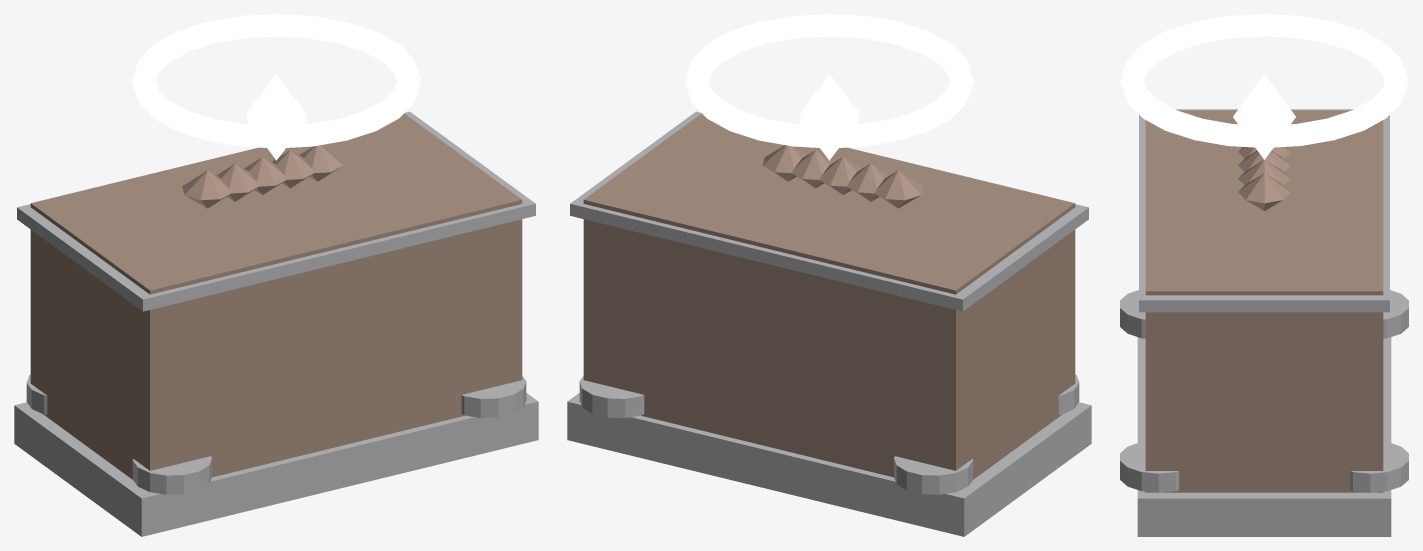
File: ore_cart_mythic.glb
3 renders of one model, left to right at view 1: azimuth 30°, elevation 25°; view 2: azimuth 150°, elevation 25°; view 3: azimuth 270°, elevation 25°, orthographic.
Parts seen in each view (by area): view 1: ore_cart; view 2: ore_cart; view 3: ore_cart.
Part boxes in pixels (<box>): ore_cart: <box>14,14,538,536</box>; ore_cart: <box>567,14,1091,536</box>; ore_cart: <box>1120,14,1408,536</box>.
Size of the model in its own units: 1.73 by 1.54 by 1.09.
